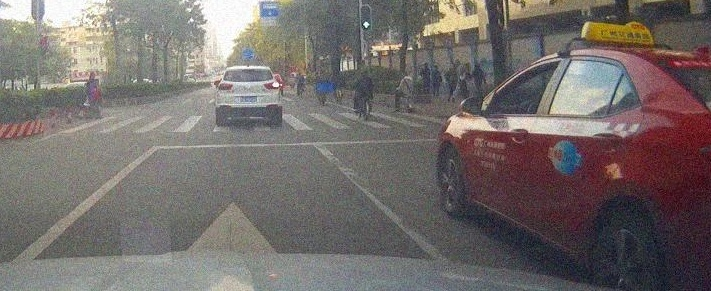L_light: (218, 83, 233, 90)
R_light: (264, 81, 279, 89)
T_light: (242, 69, 253, 72)
day-right: (215, 66, 282, 124)
